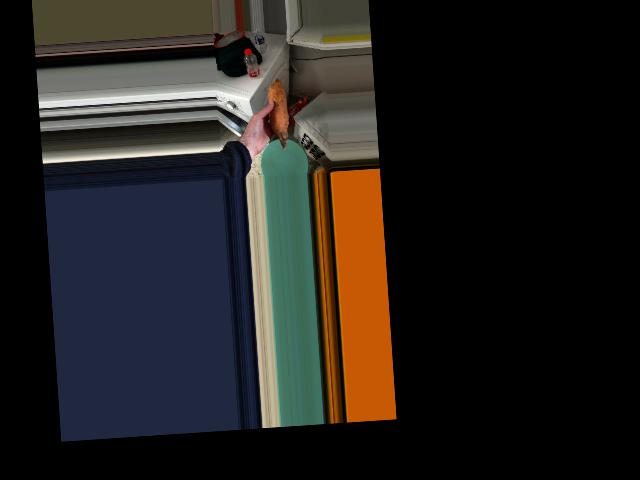sweet_potato: (264, 86, 289, 144)
